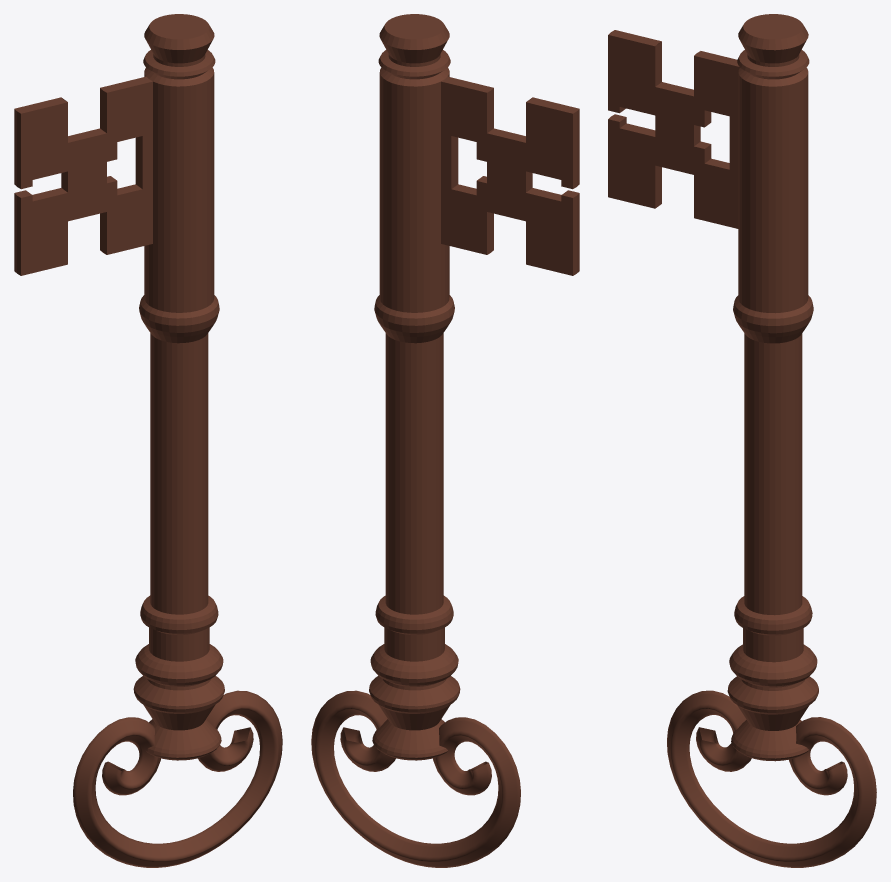
The model's file is key.fbx.
3 views of the same model, side by side, from view 1: azimuth 30°, elevation 25°; view 2: azimuth 150°, elevation 25°; view 3: azimuth 330°, elevation 25° (orthographic).
Visible parts, largest first — view 1: Circle, CurlyCurve; view 2: Circle, CurlyCurve; view 3: Circle, CurlyCurve.
Boxes of the visible parts, bbox=[...] form: Circle: bbox=[14, 14, 224, 760]; CurlyCurve: bbox=[73, 690, 282, 867]; Circle: bbox=[369, 14, 579, 760]; CurlyCurve: bbox=[311, 690, 520, 867]; Circle: bbox=[608, 14, 818, 761]; CurlyCurve: bbox=[667, 690, 876, 867].
Bounding box in the file's own units: 45.39 × 137 × 13.54.
